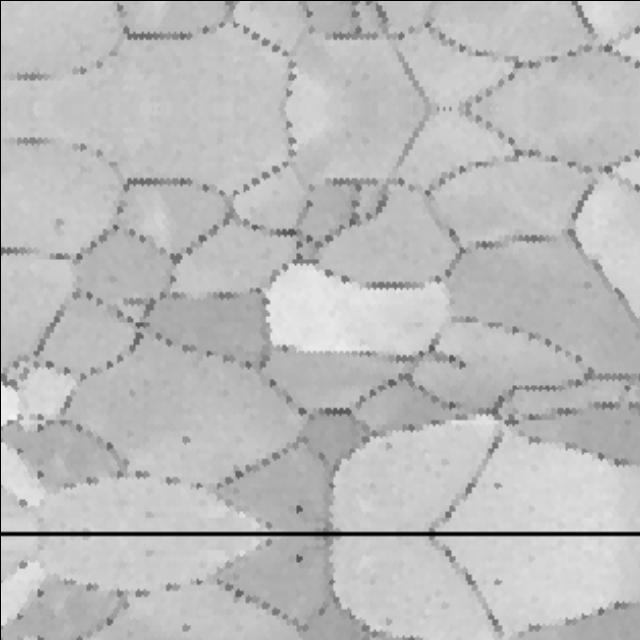good_void: (98, 269, 120, 287), (47, 214, 66, 234), (177, 432, 197, 447), (177, 619, 197, 634), (290, 501, 307, 514), (290, 552, 307, 565), (491, 478, 504, 492), (491, 574, 504, 588), (579, 278, 595, 289)
